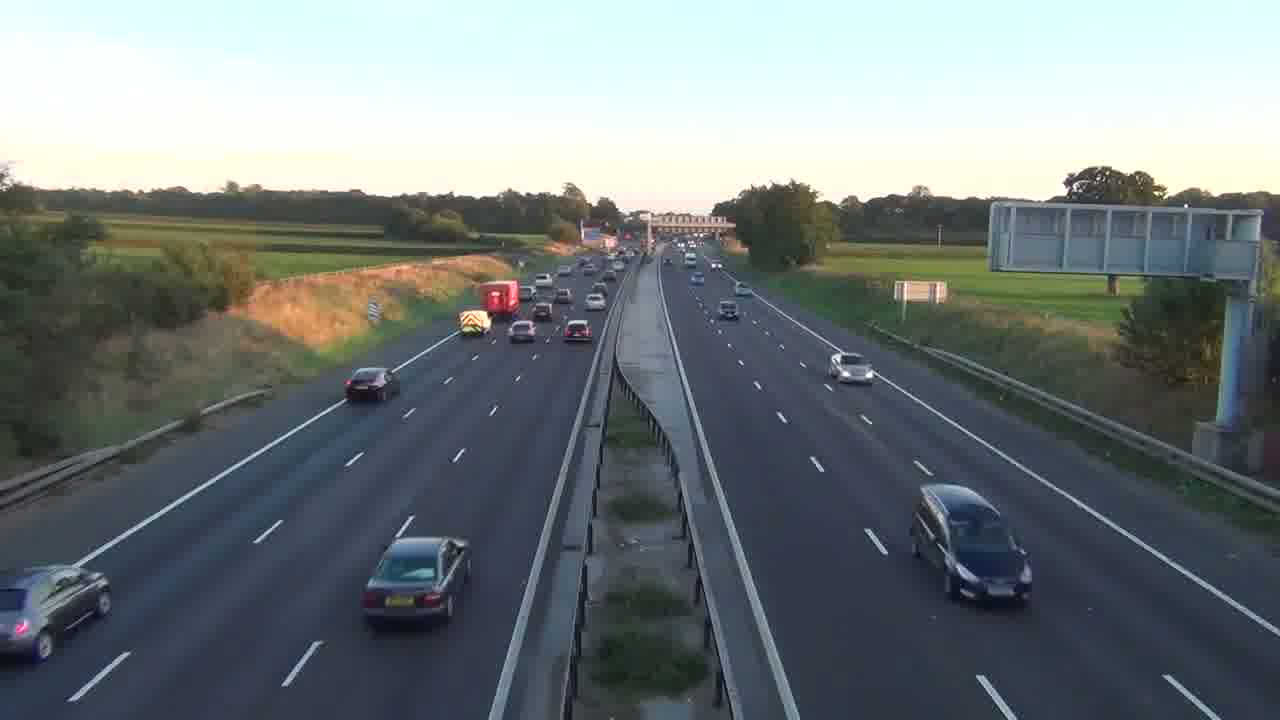car: (909, 481, 1034, 607), (0, 563, 113, 664), (360, 535, 473, 629), (343, 366, 400, 403), (828, 351, 876, 385), (563, 320, 593, 342), (509, 320, 536, 343), (584, 290, 606, 310)
truck: (909, 481, 1034, 607), (480, 281, 520, 317)
